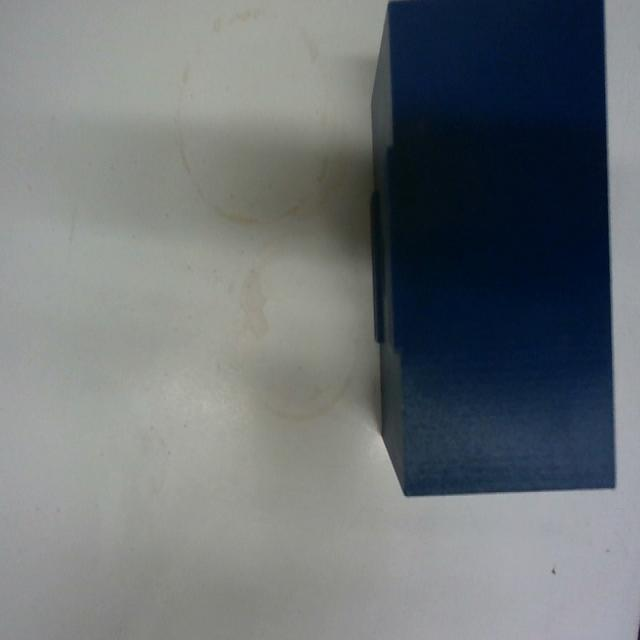Blue Cuboid: (367, 0, 617, 497)
